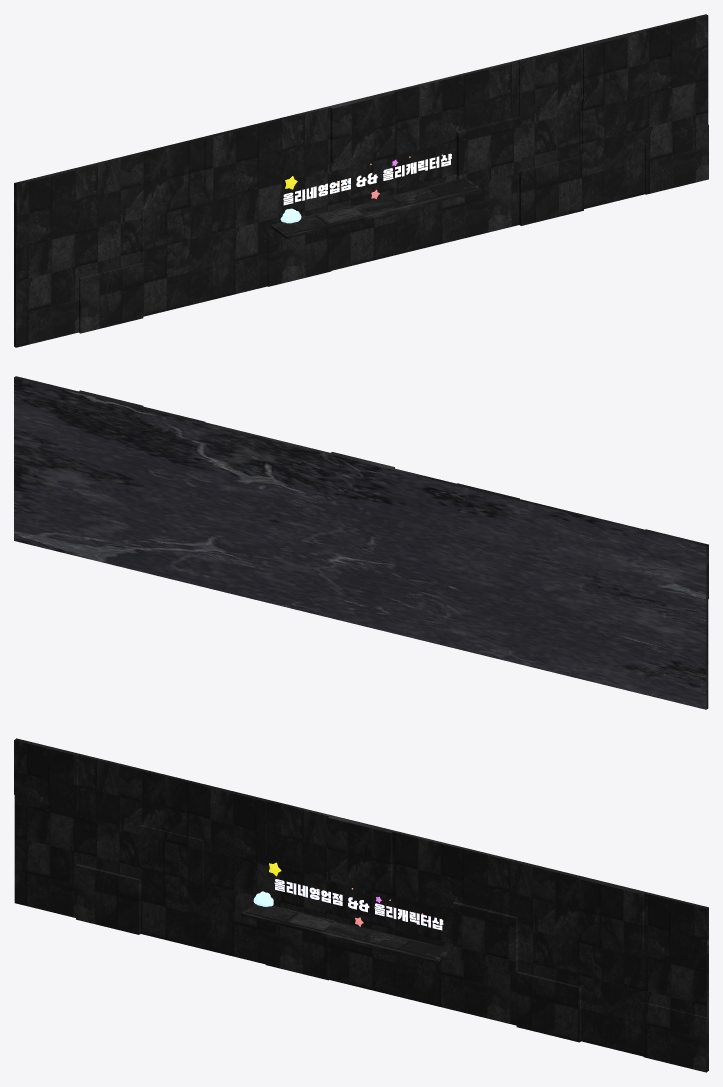
The model's file is back.glb.
3 renders of one model, top to bottom at view 1: azimuth 30°, elevation 25°; view 2: azimuth 150°, elevation 25°; view 3: azimuth 330°, elevation 25°, orthographic.
Parts seen in each view (by area): view 1: Cube.024, Cube.025, Text.008; view 2: Cube.028, Cube.024; view 3: Cube.024, Cube.025, Text.008.
Part boxes in pixels (left/top/right/bottom): Cube.024: left=14, top=14, right=708, bottom=347; Cube.025: left=271, top=177, right=481, bottom=238; Text.008: left=283, top=153, right=451, bottom=205; Cube.028: left=14, top=377, right=706, bottom=709; Cube.024: left=14, top=376, right=708, bottom=709; Cube.024: left=14, top=738, right=708, bottom=1072; Cube.025: left=241, top=903, right=451, bottom=963; Text.008: left=274, top=879, right=443, bottom=930.
Size of the model in its own units: 40.87 by 9.21 by 2.46.
Materials: 11 (2 with a texture image).
